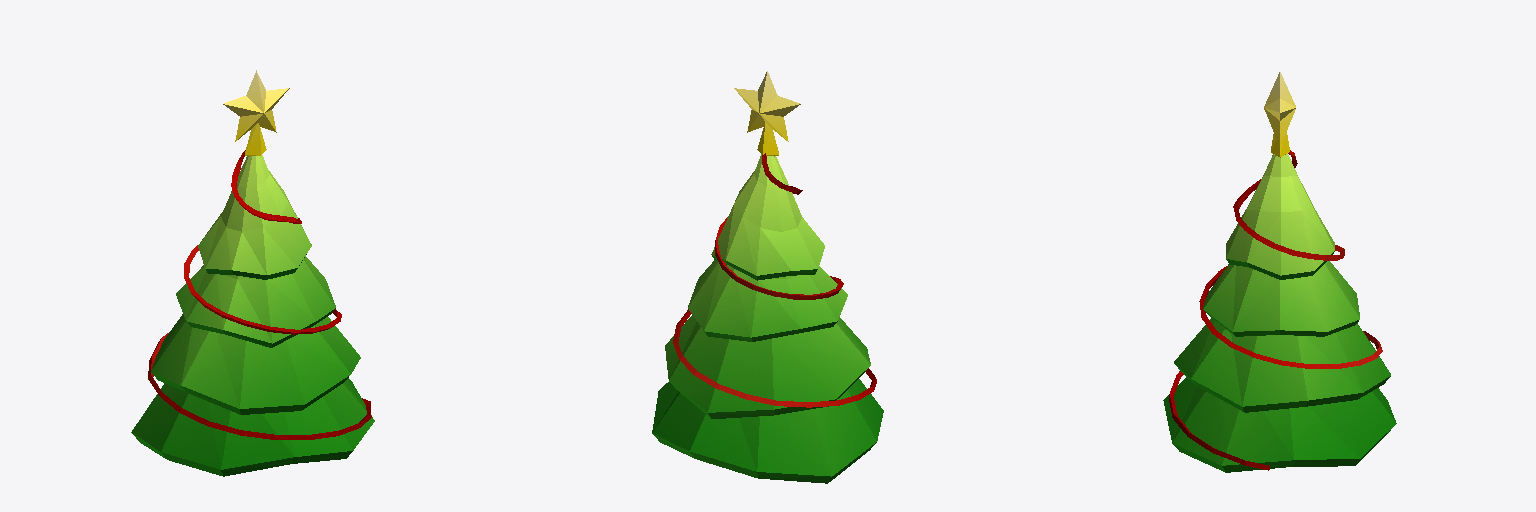
3 views of the same model, side by side, from view 1: azimuth 30°, elevation 25°; view 2: azimuth 150°, elevation 25°; view 3: azimuth 270°, elevation 25° (orthographic).
Parts seen in each view (by area): view 1: Christmas_Tree_Mesh; view 2: Christmas_Tree_Mesh; view 3: Christmas_Tree_Mesh.
Boxes of the visible parts, <box> form: Christmas_Tree_Mesh: <box>131,70,374,476</box>; Christmas_Tree_Mesh: <box>652,71,883,483</box>; Christmas_Tree_Mesh: <box>1163,72,1396,472</box>.
Bounding box in the file's own units: 2.08 × 3.6 × 2.05.
Materials: 1 (1 with a texture image).